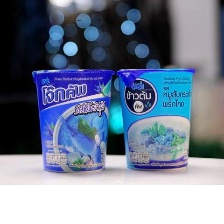paper_cup: (28, 64, 118, 177), (114, 64, 199, 175)
